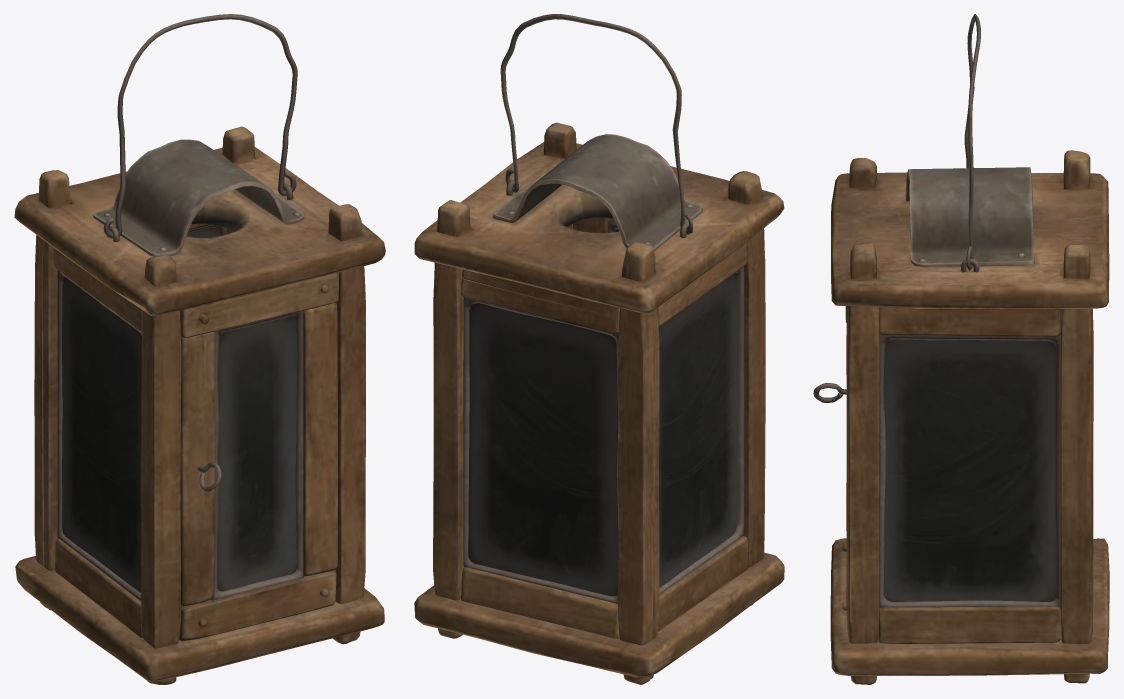
The model's file is wooden_lantern_01.glb.
The picture shows the model from 3 angles, left to right: view 1: azimuth 30°, elevation 25°; view 2: azimuth 150°, elevation 25°; view 3: azimuth 270°, elevation 25°; orthographic projection.
Visible parts, largest first — view 1: wooden_lantern_01, wooden_lantern_01_door, wooden_lantern_01_handle; view 2: wooden_lantern_01, wooden_lantern_01_handle, wooden_lantern_01_door; view 3: wooden_lantern_01, wooden_lantern_01_handle, wooden_lantern_01_door.
Part boxes in pixels (x1,y1,x2,y2): wooden_lantern_01: (14,126,385,684); wooden_lantern_01_door: (179,272,339,641); wooden_lantern_01_handle: (103,14,297,238); wooden_lantern_01: (414,122,784,684); wooden_lantern_01_handle: (500,14,692,234); wooden_lantern_01_door: (573,217,618,233); wooden_lantern_01: (830,150,1109,684); wooden_lantern_01_handle: (964,14,980,270); wooden_lantern_01_door: (813,306,847,610).
Bounding box in the file's own units: 0.221 × 0.5301 × 0.2347.
2 materials, 2 textured.
